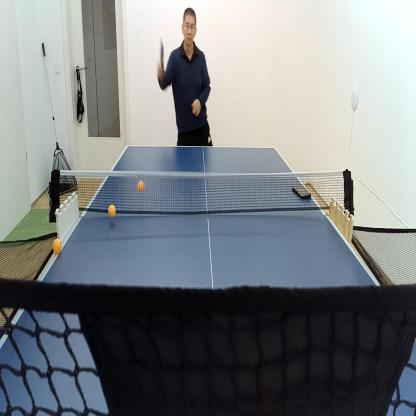Ball: (53, 240, 61, 254), (108, 204, 116, 217), (137, 180, 145, 192)
